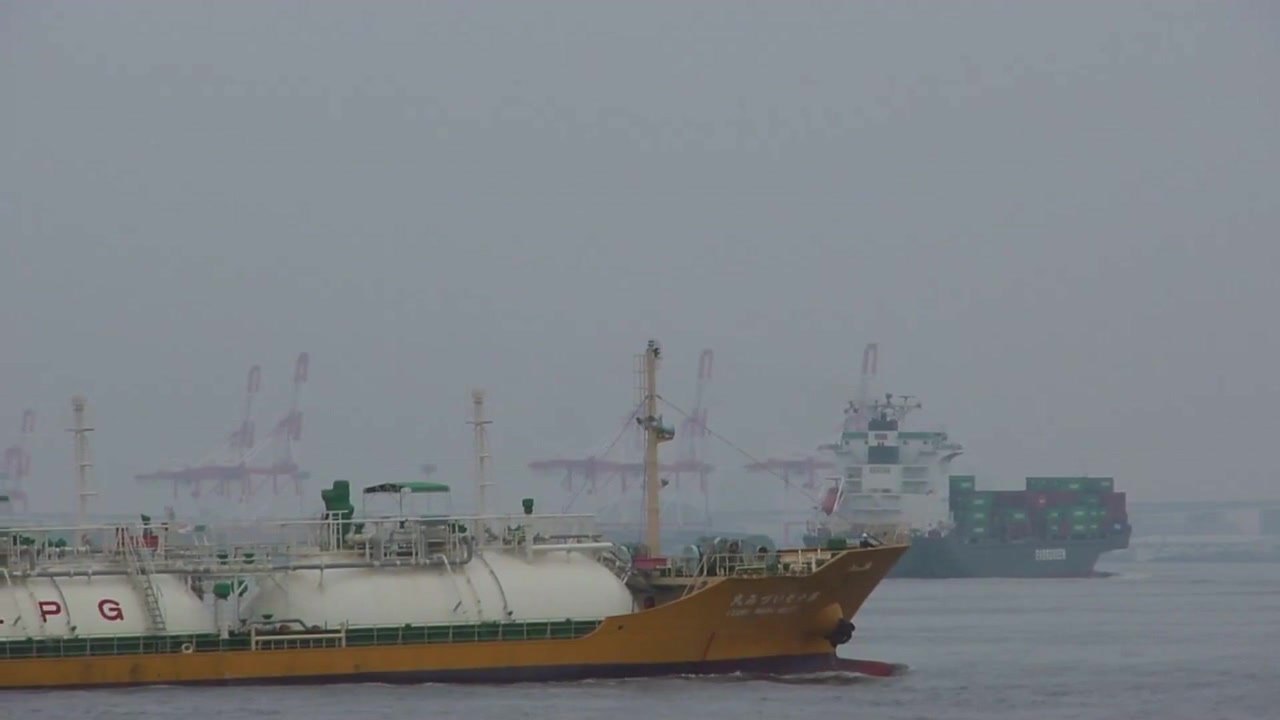boat: (1, 342, 913, 690)
